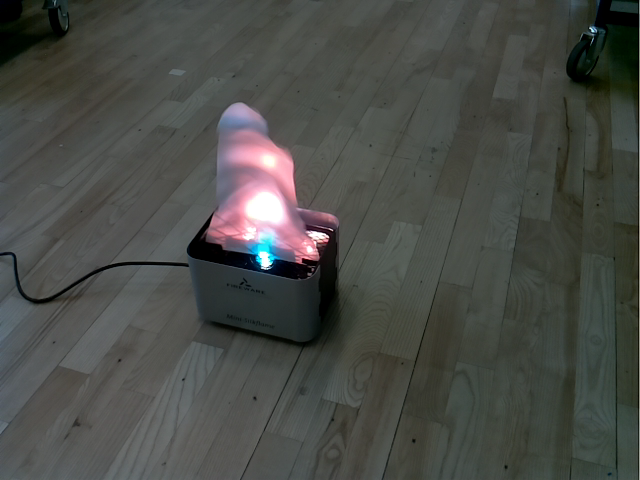fire: (207, 100, 320, 263)
